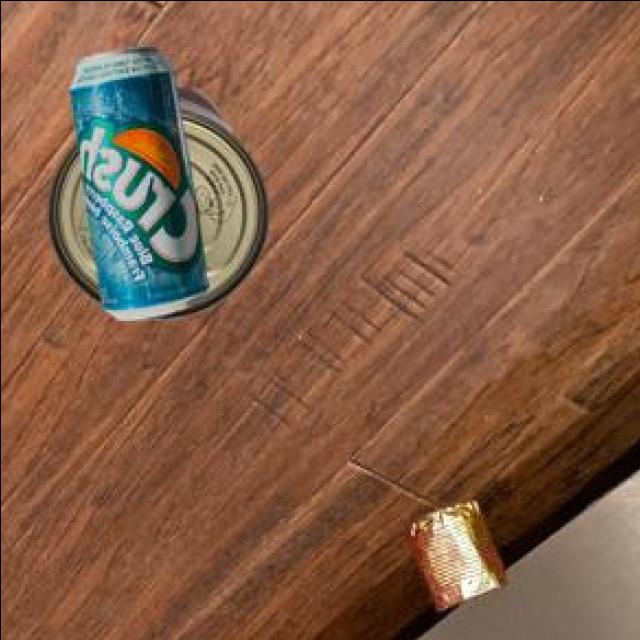logam: (45, 91, 264, 321), (67, 47, 205, 323), (402, 503, 503, 613)
